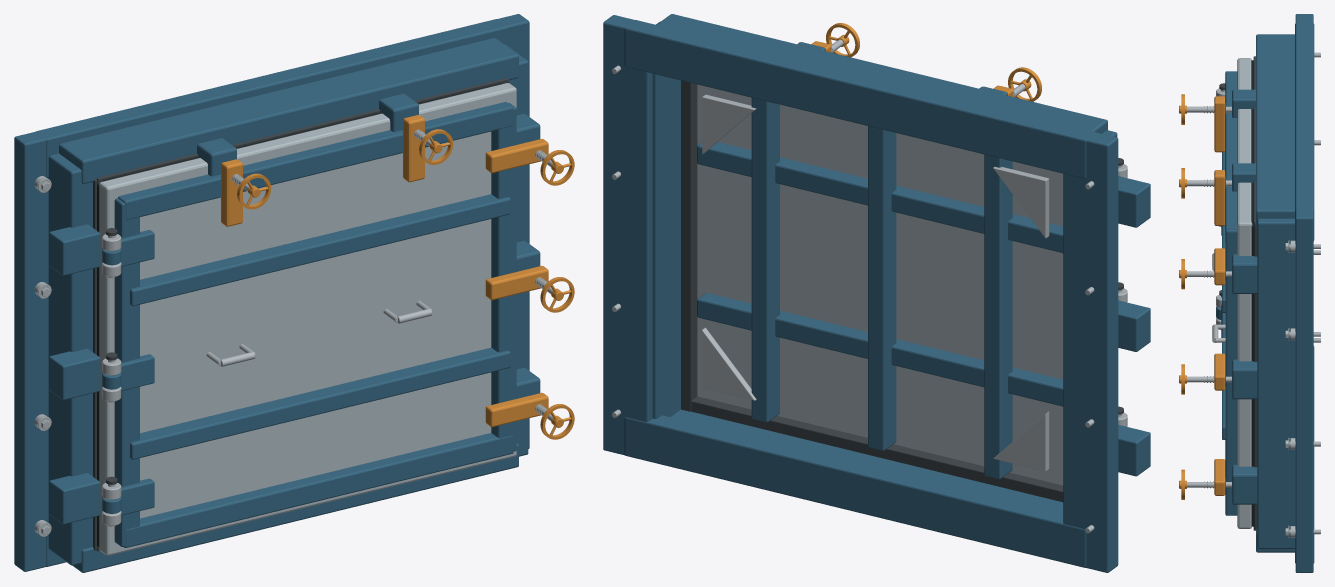
Rendered from city-flood-barrier-gate.glb.
The picture shows the model from 3 angles, left to right: view 1: azimuth 30°, elevation 25°; view 2: azimuth 150°, elevation 25°; view 3: azimuth 270°, elevation 25°; orthographic projection. The views are drawn at different scales.
Visible parts, largest first — view 1: Assembly | Marine blue powder coat, Assembly | Satin anodized flood panel, Assembly | Clamp ochre enamel, Assembly | Satin galvanized steel, Assembly | Cast structural iron, Assembly | Graphite elastomer; view 2: Assembly | Marine blue powder coat, Assembly | Satin anodized flood panel, Assembly | Cast structural iron, Assembly | Satin galvanized steel, Assembly | Clamp ochre enamel; view 3: Assembly | Marine blue powder coat, Assembly | Satin anodized flood panel, Assembly | Clamp ochre enamel, Assembly | Satin galvanized steel, Assembly | Cast structural iron, Assembly | Graphite elastomer.
Boxes of the visible parts, bbox=[...] form: Assembly | Marine blue powder coat: bbox=[14, 14, 540, 572]; Assembly | Satin anodized flood panel: bbox=[99, 83, 516, 555]; Assembly | Clamp ochre enamel: bbox=[221, 115, 574, 439]; Assembly | Satin galvanized steel: bbox=[34, 129, 552, 536]; Assembly | Cast structural iron: bbox=[93, 78, 509, 551]; Assembly | Graphite elastomer: bbox=[97, 83, 502, 546]; Assembly | Marine blue powder coat: bbox=[603, 14, 1150, 572]; Assembly | Satin anodized flood panel: bbox=[697, 84, 1063, 485]; Assembly | Cast structural iron: bbox=[681, 80, 1123, 502]; Assembly | Satin galvanized steel: bbox=[612, 39, 1127, 533]; Assembly | Clamp ochre enamel: bbox=[811, 23, 1041, 101]; Assembly | Marine blue powder coat: bbox=[1216, 14, 1314, 572]; Assembly | Satin anodized flood panel: bbox=[1237, 58, 1252, 528]; Assembly | Clamp ochre enamel: bbox=[1179, 94, 1225, 499]; Assembly | Satin galvanized steel: bbox=[1187, 52, 1320, 538]; Assembly | Cast structural iron: bbox=[1219, 56, 1257, 530]; Assembly | Graphite elastomer: bbox=[1251, 60, 1254, 526].
Bounding box in the file's own units: 2 × 1.62 × 0.5855.
